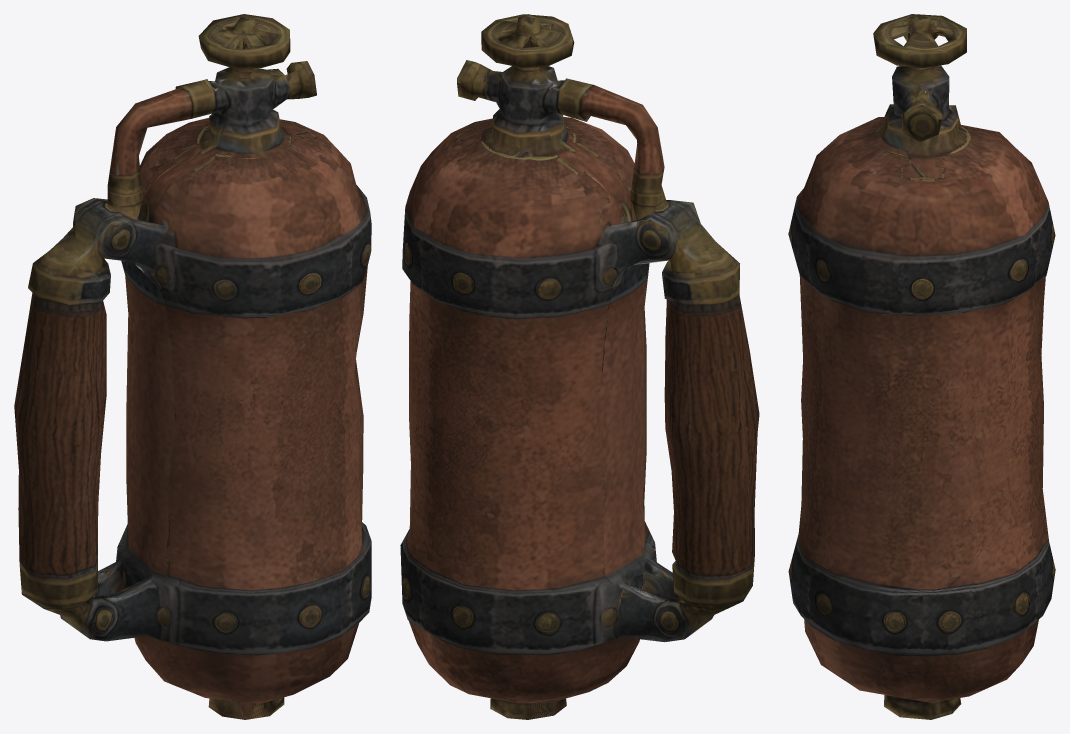
The model's file is PR_SteamCanister.fbx.
3 renders of one model, left to right at view 1: azimuth 30°, elevation 25°; view 2: azimuth 150°, elevation 25°; view 3: azimuth 270°, elevation 25°, orthographic.
Visible parts, largest first — view 1: texture_mapping; view 2: texture_mapping; view 3: texture_mapping.
Part boxes in pixels (x1,y1,x2,y2): texture_mapping: (14, 14, 371, 719); texture_mapping: (400, 14, 759, 719); texture_mapping: (788, 14, 1055, 719).
Bounding box in the file's own units: 0.5146 × 0.3527 × 1.
1 material, 1 textured.
